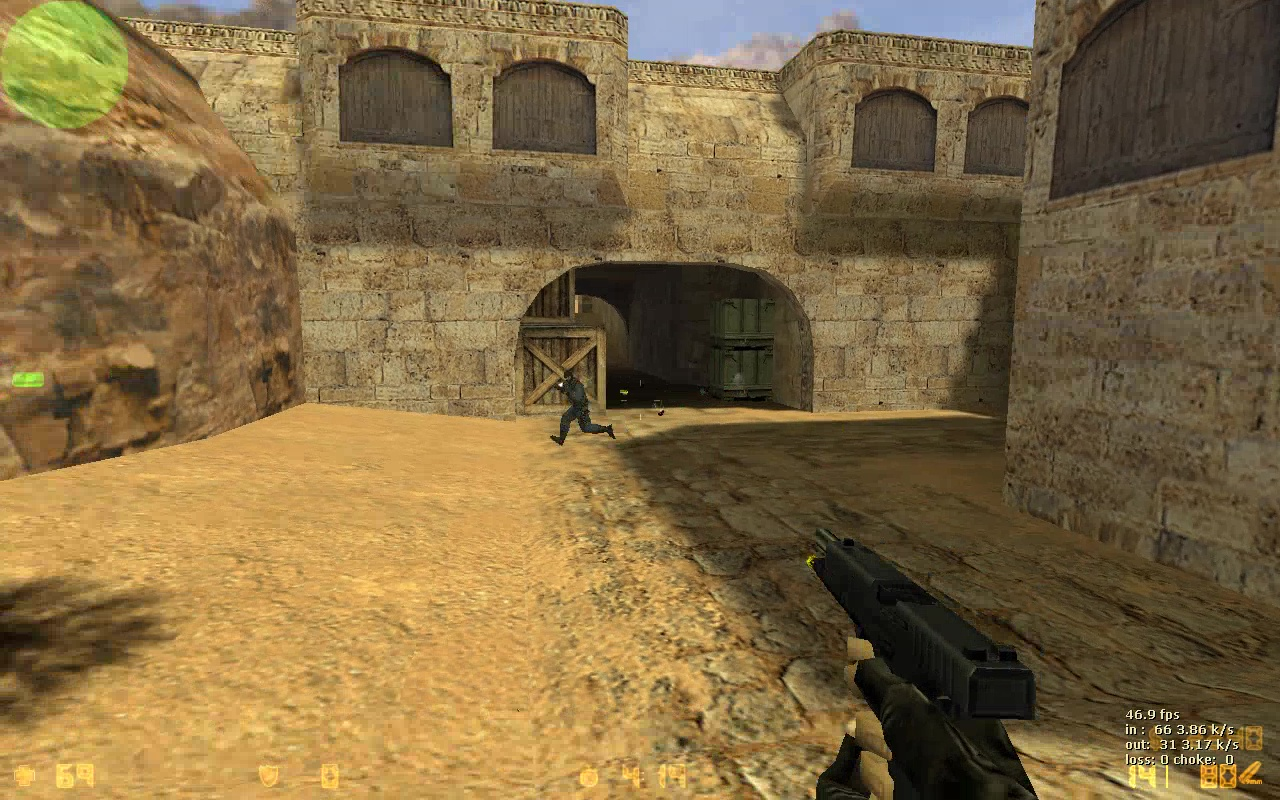ct: (551, 370, 617, 449)
